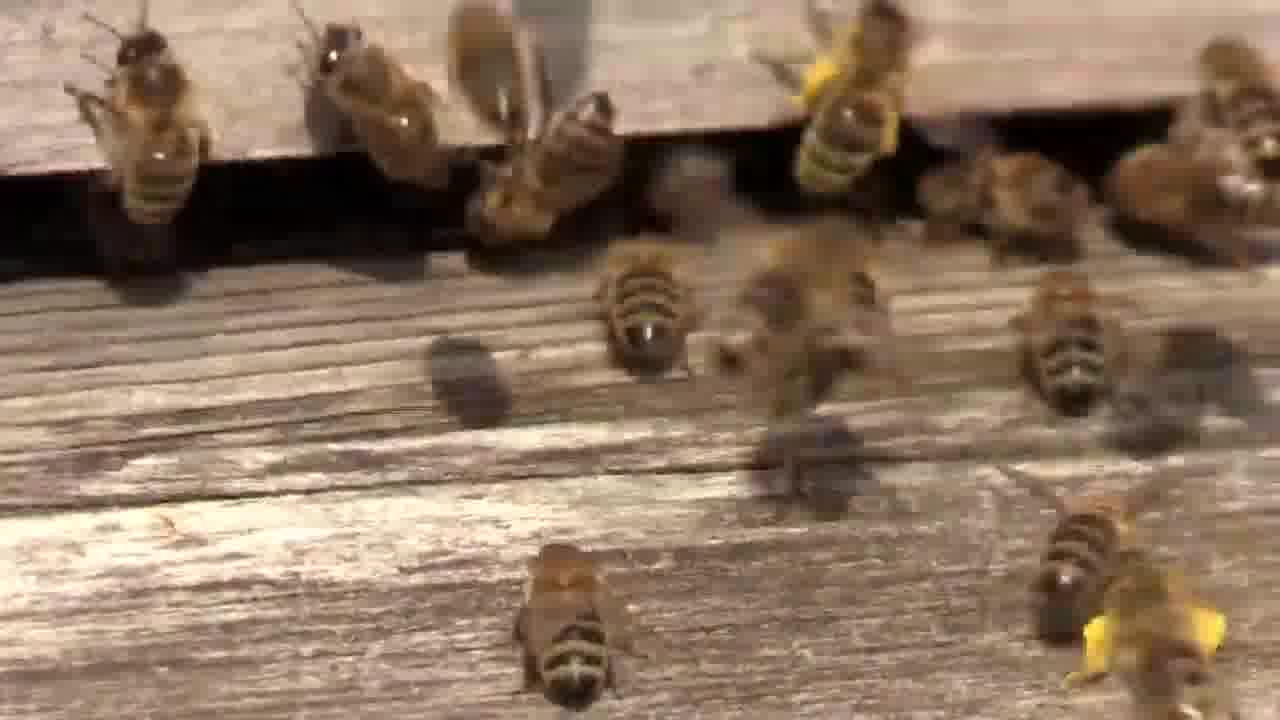pollen: (1081, 562, 1246, 720), (791, 4, 912, 201)
